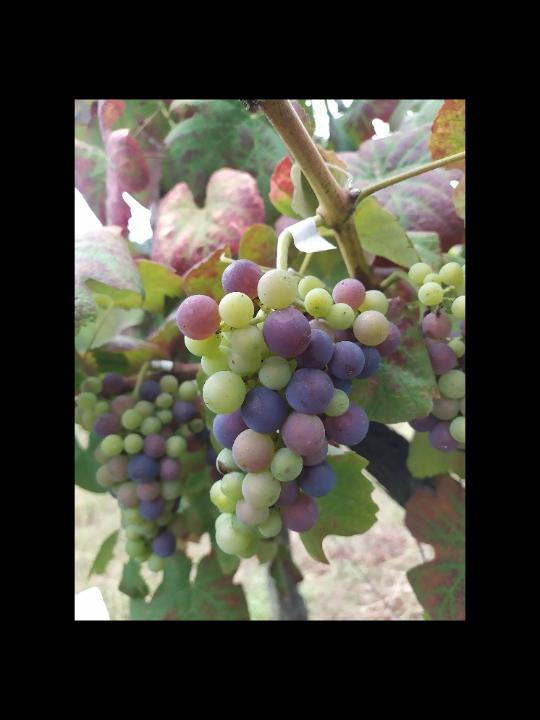grape: (173, 257, 404, 561)
